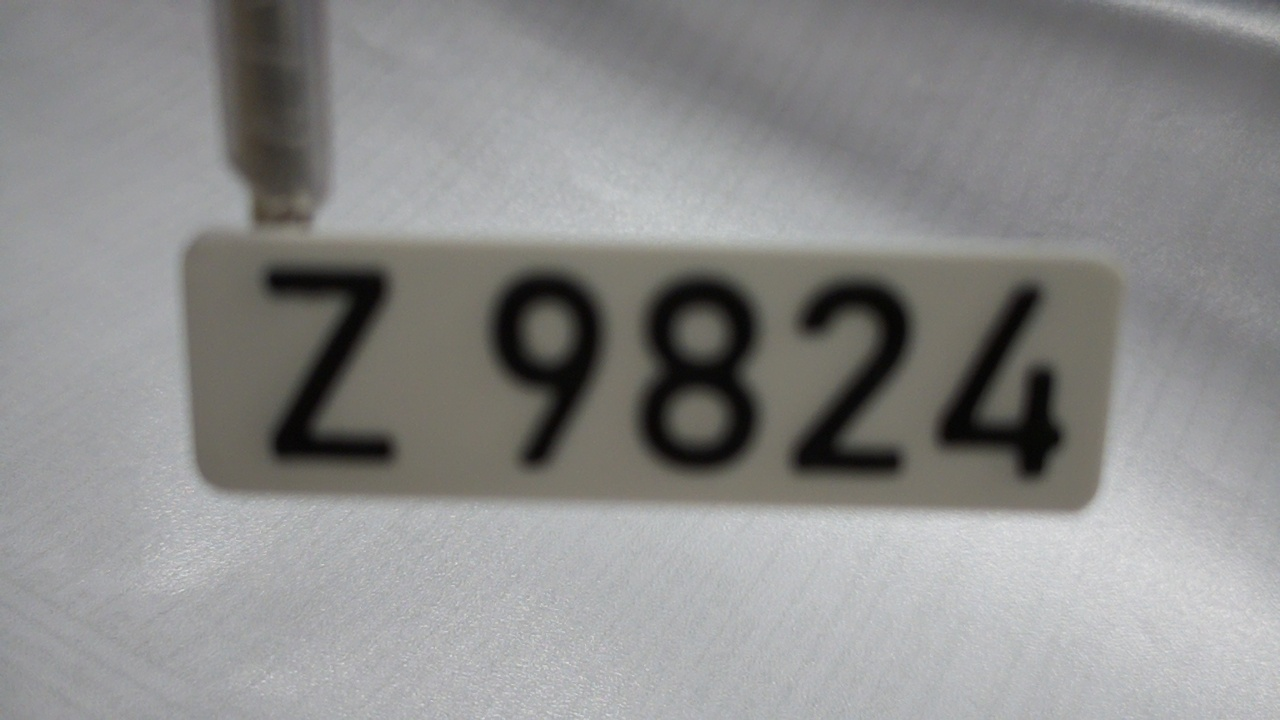license_plate: (174, 225, 1129, 521)
